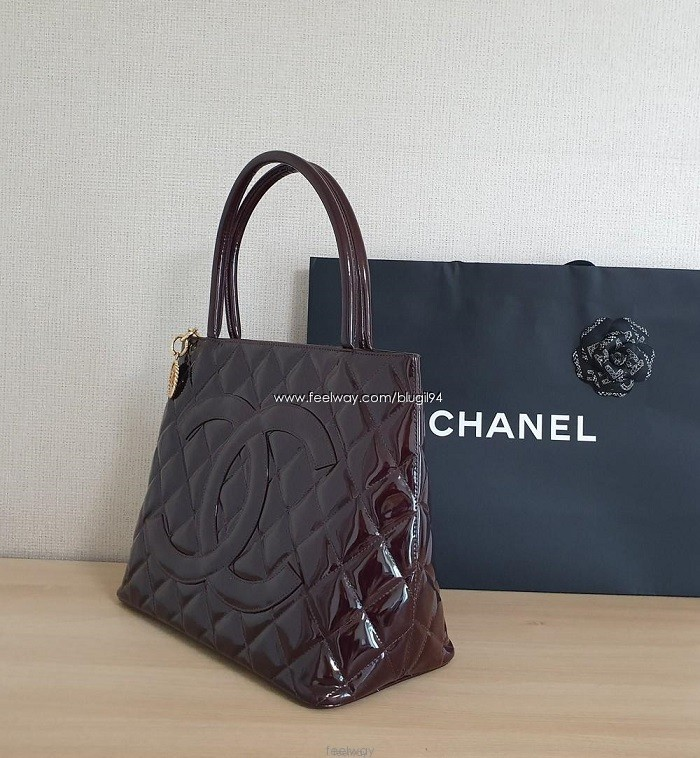channel: (105, 258, 463, 706), (179, 381, 361, 613)
